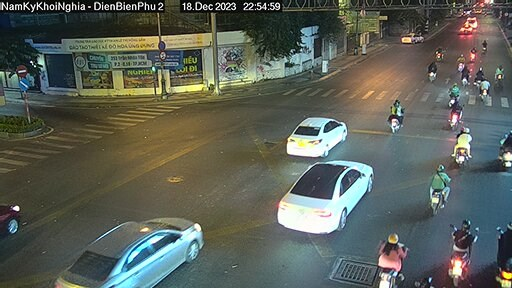car: (58, 217, 210, 288), (279, 159, 373, 232), (289, 115, 347, 159), (401, 28, 425, 46)
motorbike: (375, 234, 415, 288), (429, 163, 450, 218), (452, 223, 471, 283), (452, 129, 476, 168), (385, 97, 411, 129), (449, 101, 467, 125), (476, 77, 493, 101), (426, 60, 441, 84)
